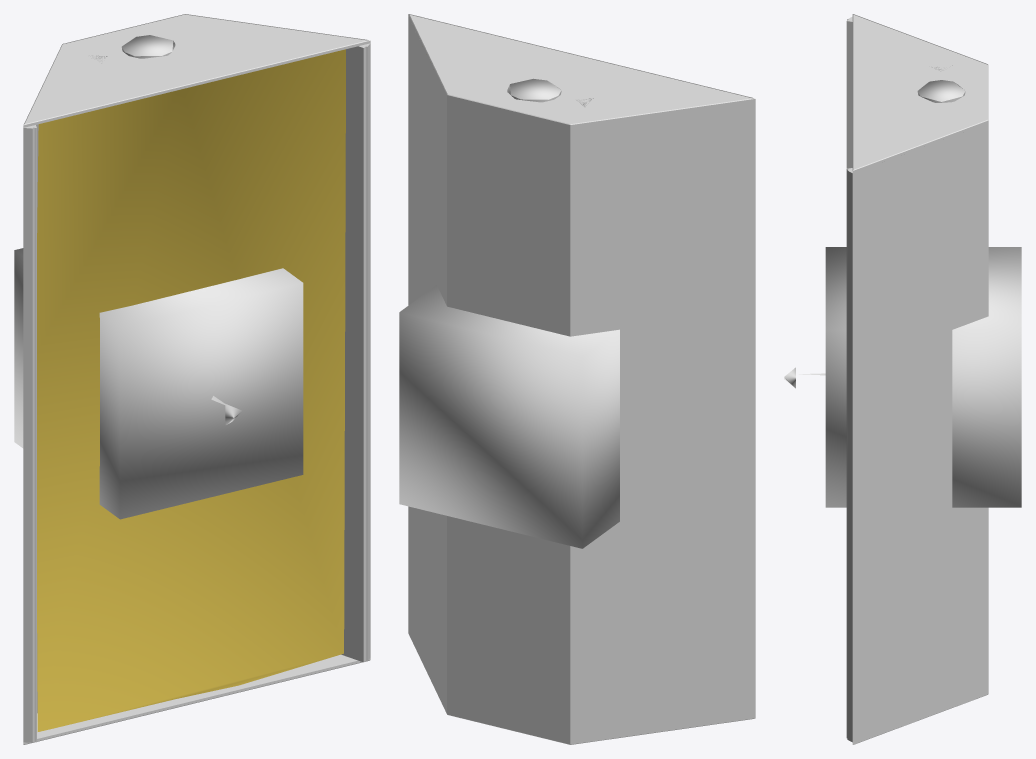
Rendered from gravity-recovery-and-climate-experiment-grace-a.glb.
The picture shows the model from 3 angles, left to right: view 1: azimuth 30°, elevation 25°; view 2: azimuth 150°, elevation 25°; view 3: azimuth 270°, elevation 25°; orthographic projection. The views are drawn at different scales.
Parts seen in each view (by area): view 1: foil_silver, shiny_panel, _root; view 2: shiny_panel, _root; view 3: shiny_panel, _root.
Boxes of the visible parts, x1,y1,x2,y2 form: foil_silver: (37, 49, 345, 731); shiny_panel: (23, 14, 370, 744); _root: (14, 248, 303, 519); shiny_panel: (408, 14, 755, 744); _root: (399, 285, 619, 548); shiny_panel: (784, 14, 988, 744); _root: (825, 247, 1021, 507).
Size of the model in its own units: 1.89 by 3.25 by 1.21.
